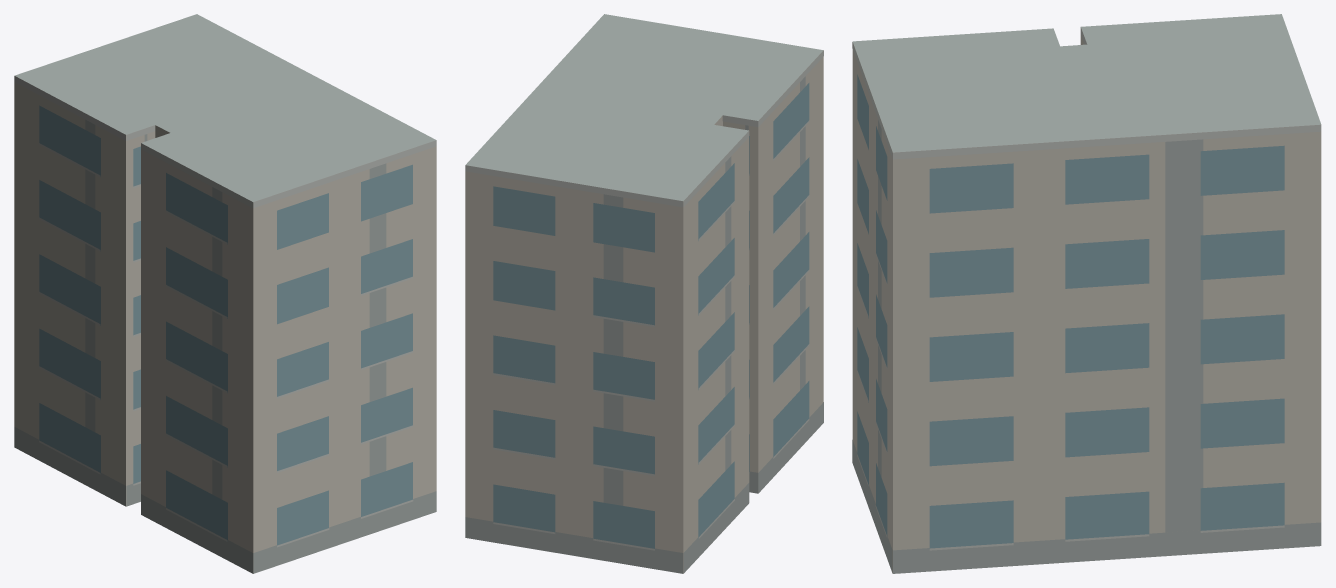
The model's file is survey-upis-32523542.glb.
The picture shows the model from 3 angles, left to right: view 1: azimuth 30°, elevation 25°; view 2: azimuth 150°, elevation 25°; view 3: azimuth 270°, elevation 25°; orthographic projection. The views are drawn at different scales.
Parts seen in each view (by area): view 1: survey-upis-32523542.tmp; view 2: survey-upis-32523542.tmp; view 3: survey-upis-32523542.tmp.
Boxes of the visible parts, box(x1,y1,x2,y2) form: survey-upis-32523542.tmp: box(14, 14, 436, 573); survey-upis-32523542.tmp: box(465, 14, 823, 573); survey-upis-32523542.tmp: box(852, 14, 1321, 573).
Bounding box in the file's own units: 10.31 × 14.6 × 14.74.
